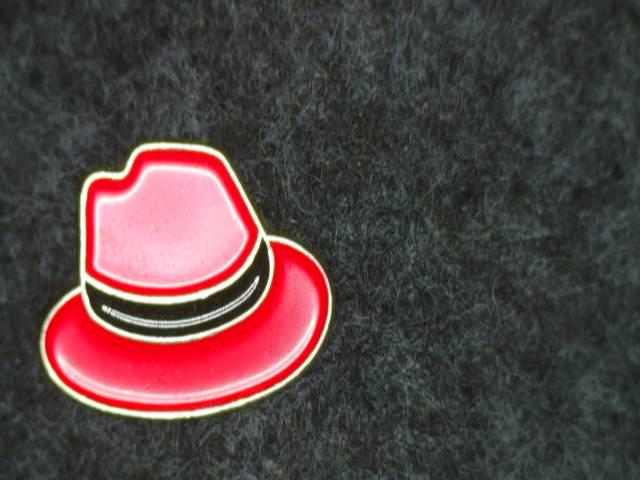Red-Hat: (24, 129, 372, 432)
